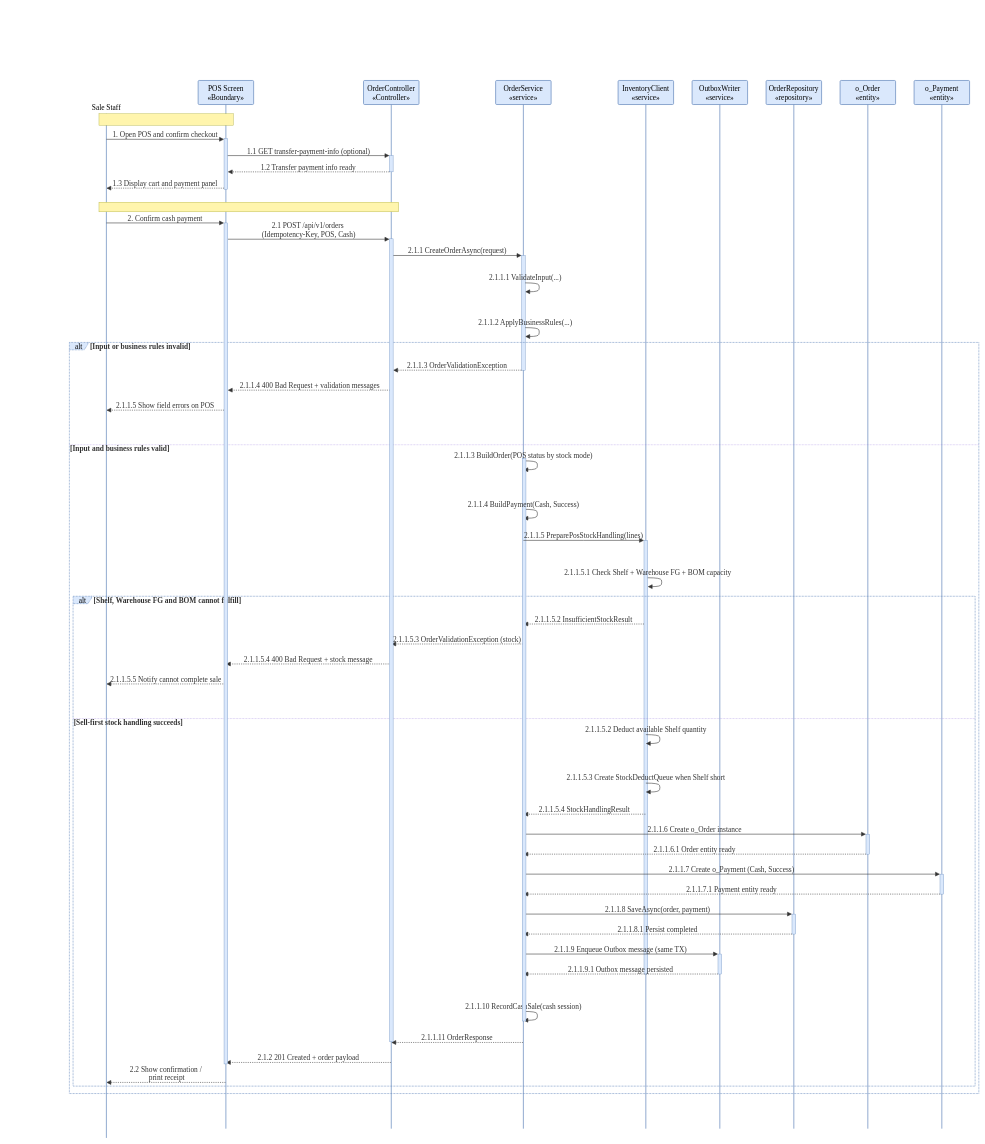
Some shapes in this 985 by 1144 pixel diagram are drawn without their labels. Each missing label, with the centre of its shape:
"Open POS / prepare checkout" belongs at (x=166, y=119).
"Submit cash order" belongs at (x=249, y=207).
